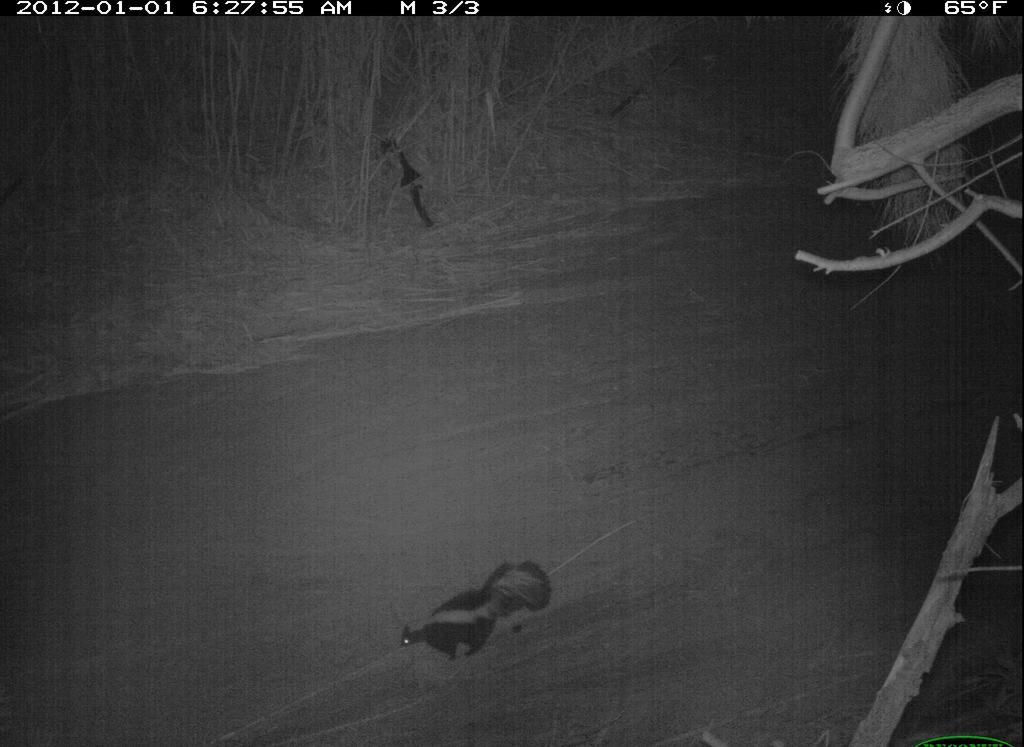skunk: (393, 552, 564, 667)
